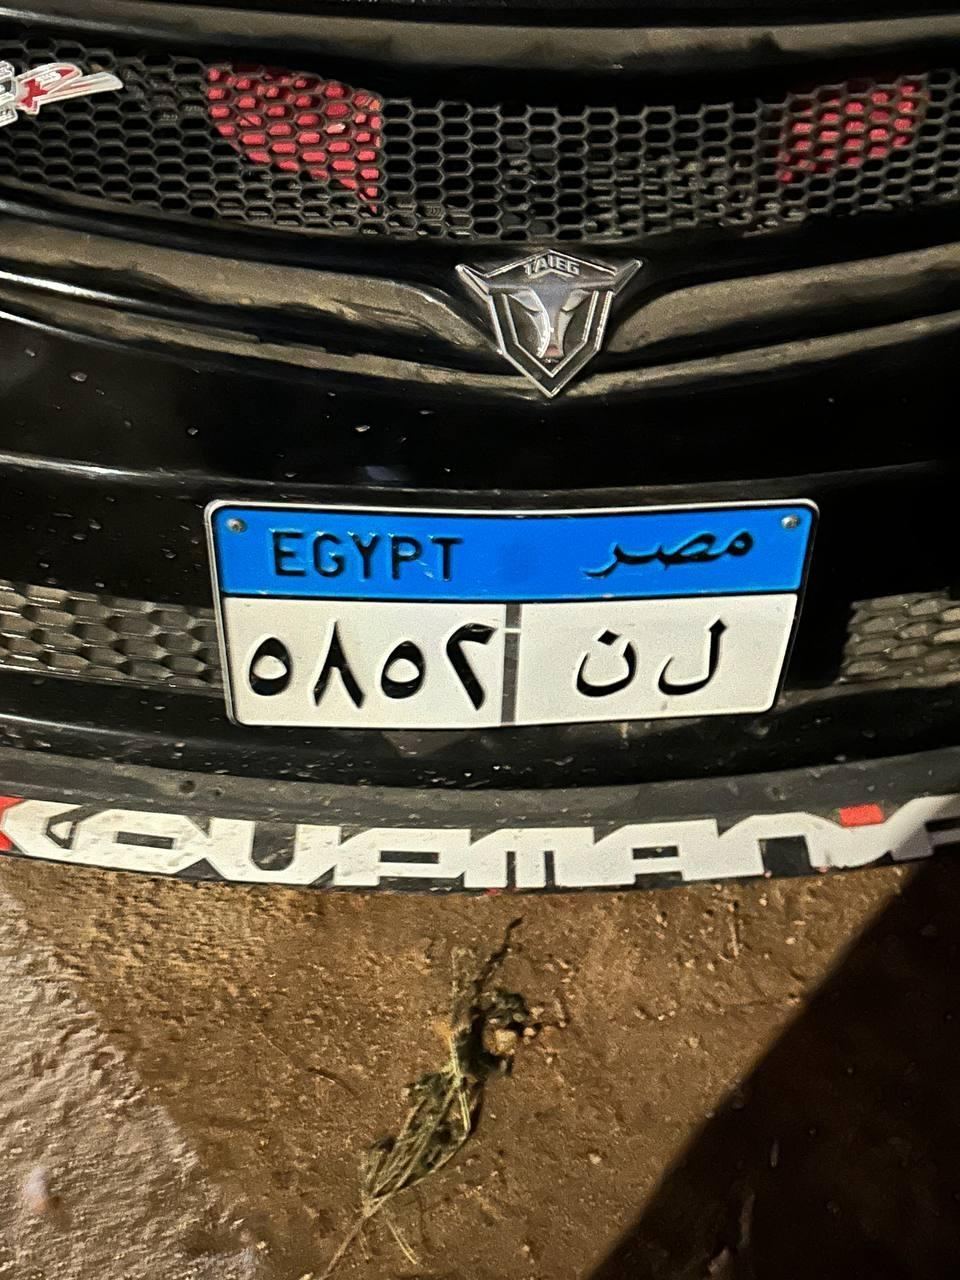2: (445, 613, 497, 710)
5: (237, 628, 298, 702), (376, 634, 434, 708)
8: (308, 618, 368, 708)
Laam: (664, 608, 728, 702)
License Plate: (202, 493, 820, 732)
Noon: (575, 625, 636, 700)
